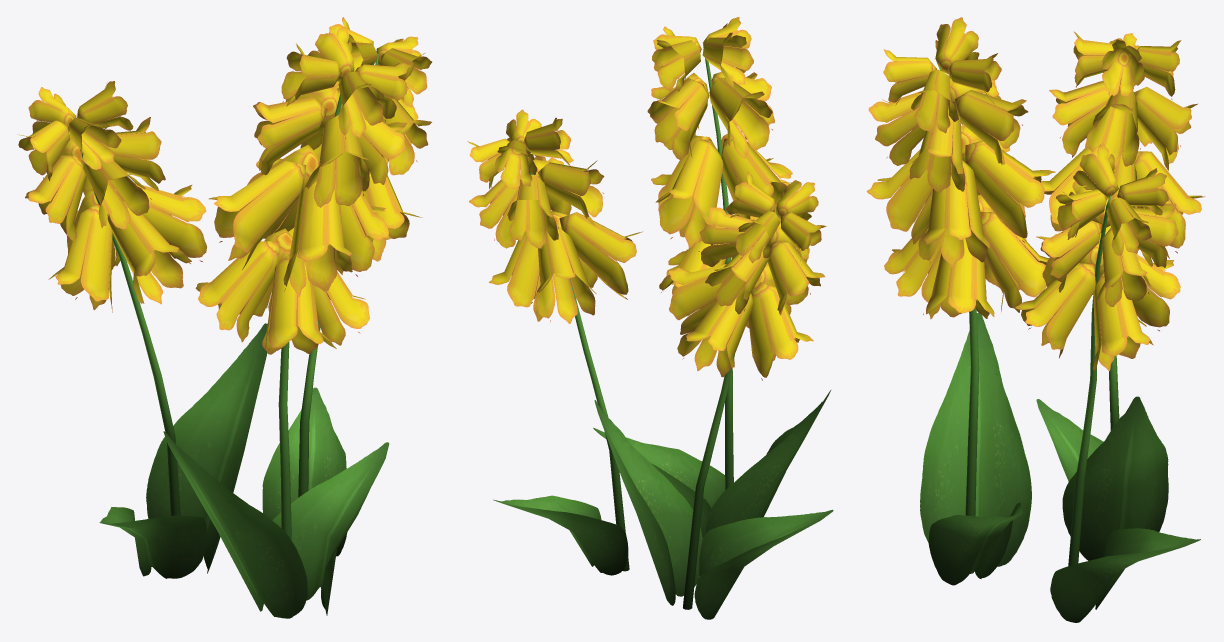
The model's file is flower_4.glb.
3 views of the same model, side by side, from view 1: azimuth 30°, elevation 25°; view 2: azimuth 150°, elevation 25°; view 3: azimuth 270°, elevation 25° (orthographic). The views are drawn at different scales.
Visible parts, largest first — view 1: Flower_4_Group; view 2: Flower_4_Group; view 3: Flower_4_Group.
Part boxes in pixels (box(x1,y1,x2,y2)): Flower_4_Group: box(17, 17, 431, 618); Flower_4_Group: box(467, 17, 833, 619); Flower_4_Group: box(866, 17, 1205, 622).
Size of the model in its own units: 1.78 by 2.49 by 1.37.
2 materials, 2 textured.
